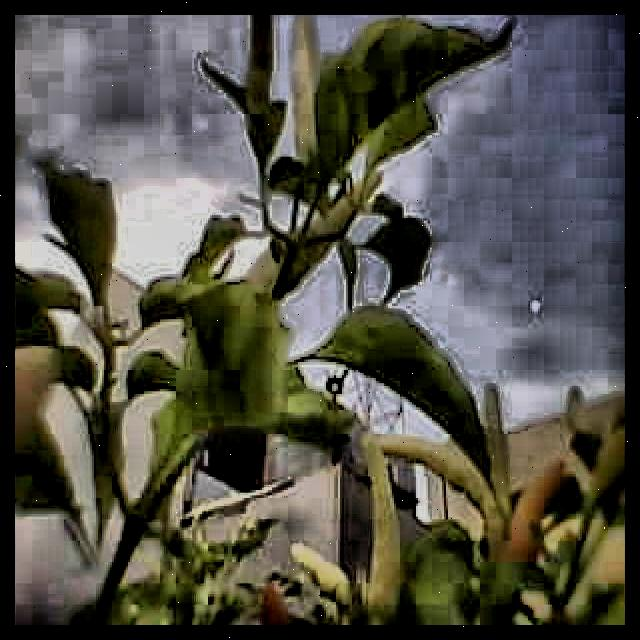Cabai: (504, 456, 572, 549)
